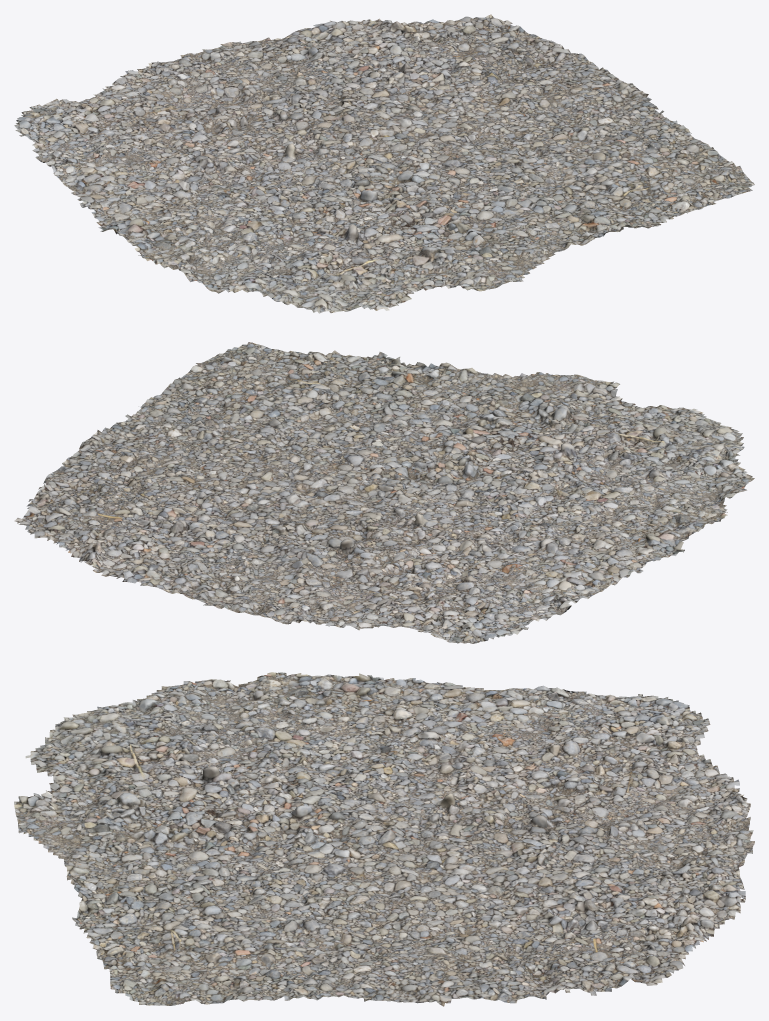
File: river_stones.glb
The picture shows the model from 3 angles, top to bottom: view 1: azimuth 30°, elevation 25°; view 2: azimuth 150°, elevation 25°; view 3: azimuth 270°, elevation 25°; orthographic projection. The views are drawn at different scales.
Visible parts, largest first — view 1: terraMeshroom_low; view 2: terraMeshroom_low; view 3: terraMeshroom_low.
Part boxes in pixels (x1,y1,x2,y2): terraMeshroom_low: (14, 14, 754, 313); terraMeshroom_low: (14, 342, 754, 643); terraMeshroom_low: (14, 672, 754, 1006).
Size of the model in its own units: 2.93 by 0.1301 by 2.9.
Materials: 1 (1 with a texture image).
